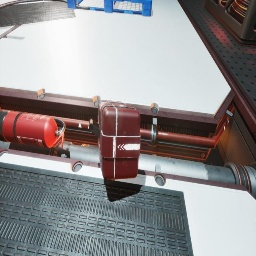FireExtinguisher ]: (0, 110, 66, 148)
FirstAidBox ,: (89, 100, 141, 180)
